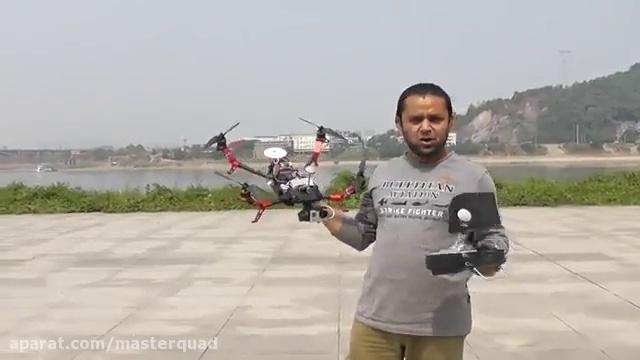drone: (200, 112, 368, 224)
